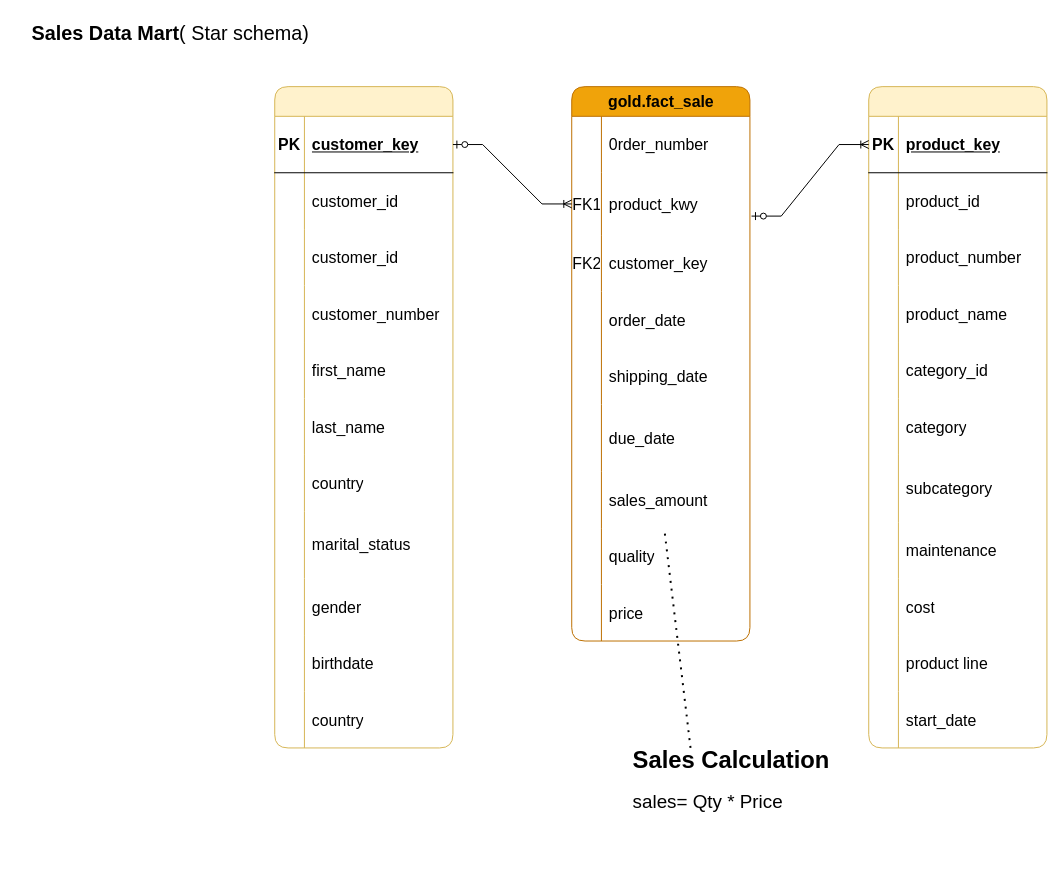
This 1064x878 diagram has some shape labels left out. The shapes that lost their labels are listed below. From the top down, each one's box as (x1, y1, x2, y2) in pixels, then its label:
(274, 86, 453, 748): gold.dim_customer
(868, 86, 1047, 748): gold.dim_products
